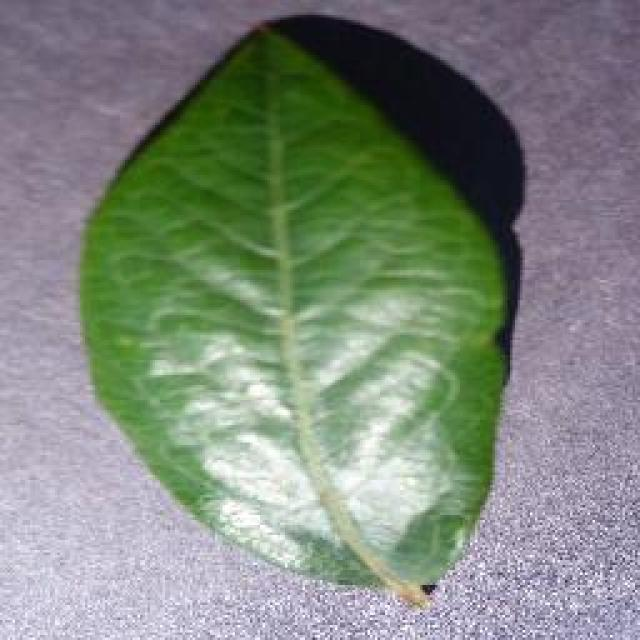Blu_healthy: (93, 130, 505, 521)
